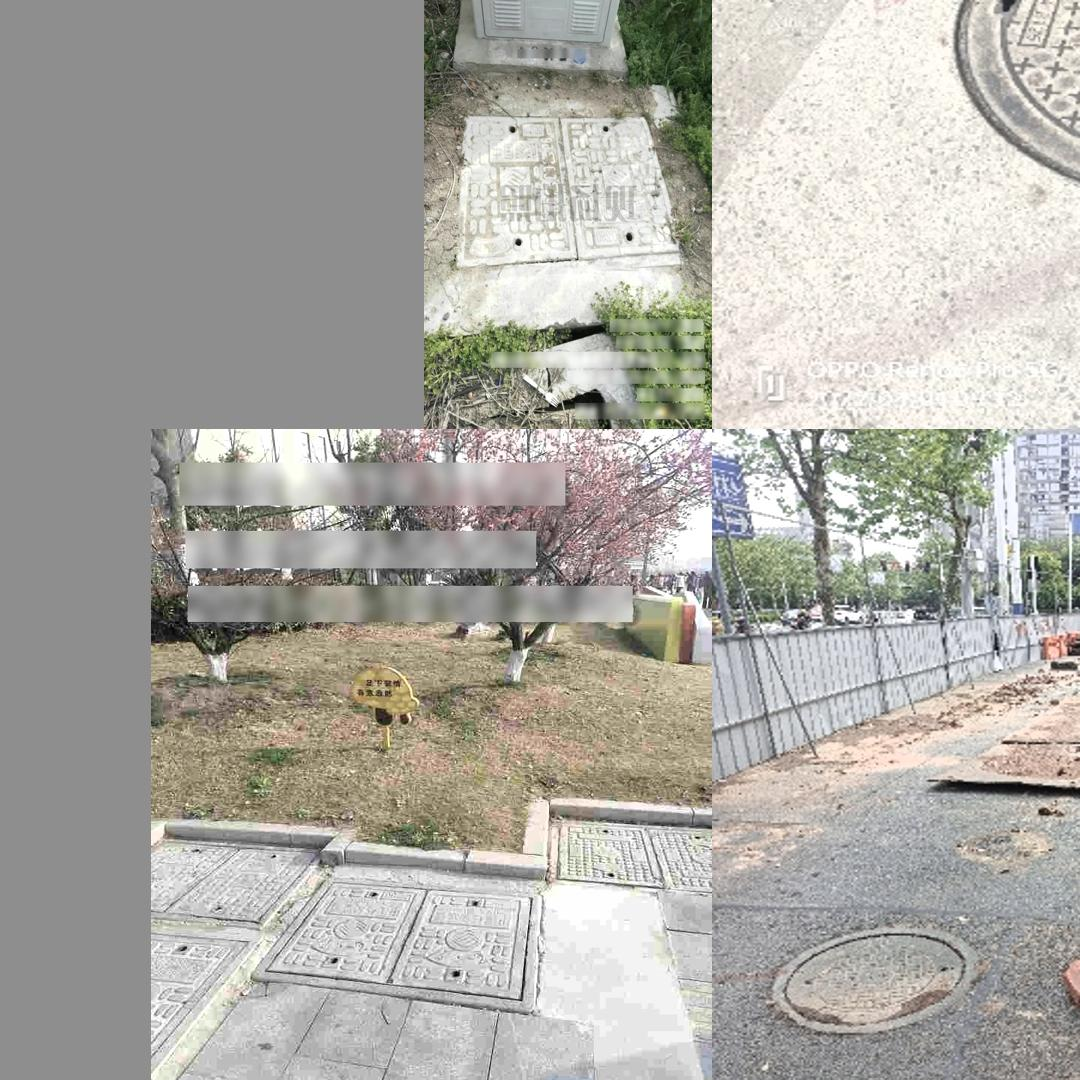good: (251, 873, 542, 1019), (456, 115, 683, 272), (965, 0, 1080, 210), (772, 926, 978, 1031), (151, 935, 272, 1080), (151, 839, 323, 926), (554, 815, 712, 905)
